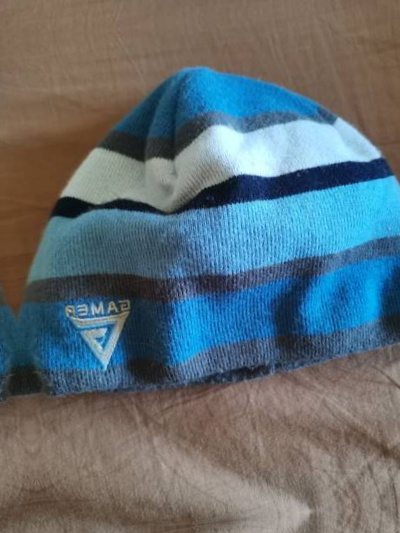Hat: (0, 32, 400, 415), (0, 82, 28, 465), (0, 0, 392, 8)
